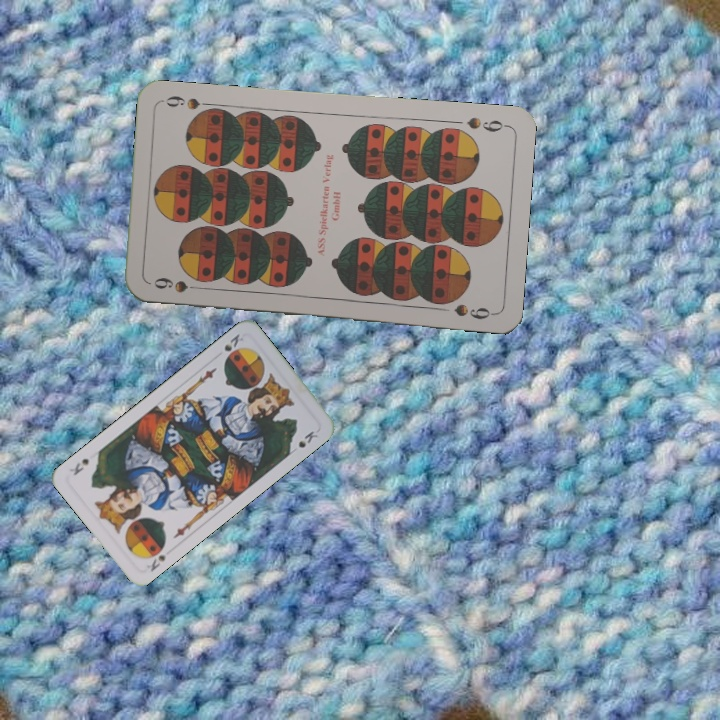S9: (149, 273, 207, 295), (463, 113, 510, 134)
SK: (220, 330, 246, 361), (142, 550, 169, 574)
